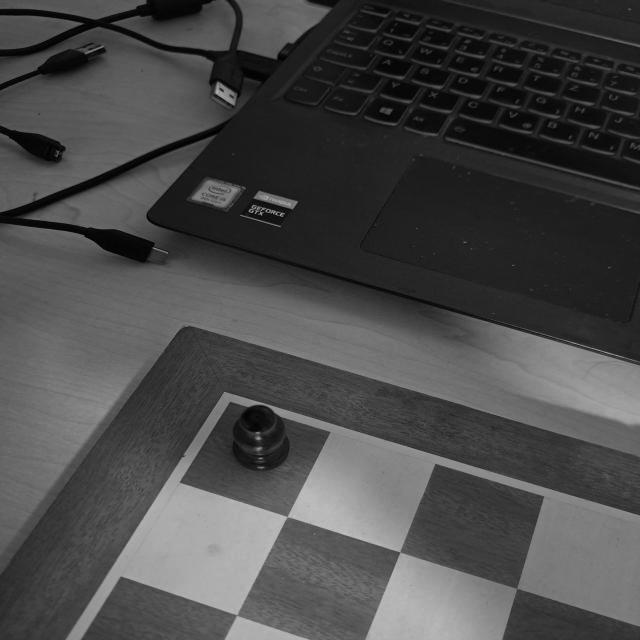chess-table-corners: (178, 372, 284, 432)
